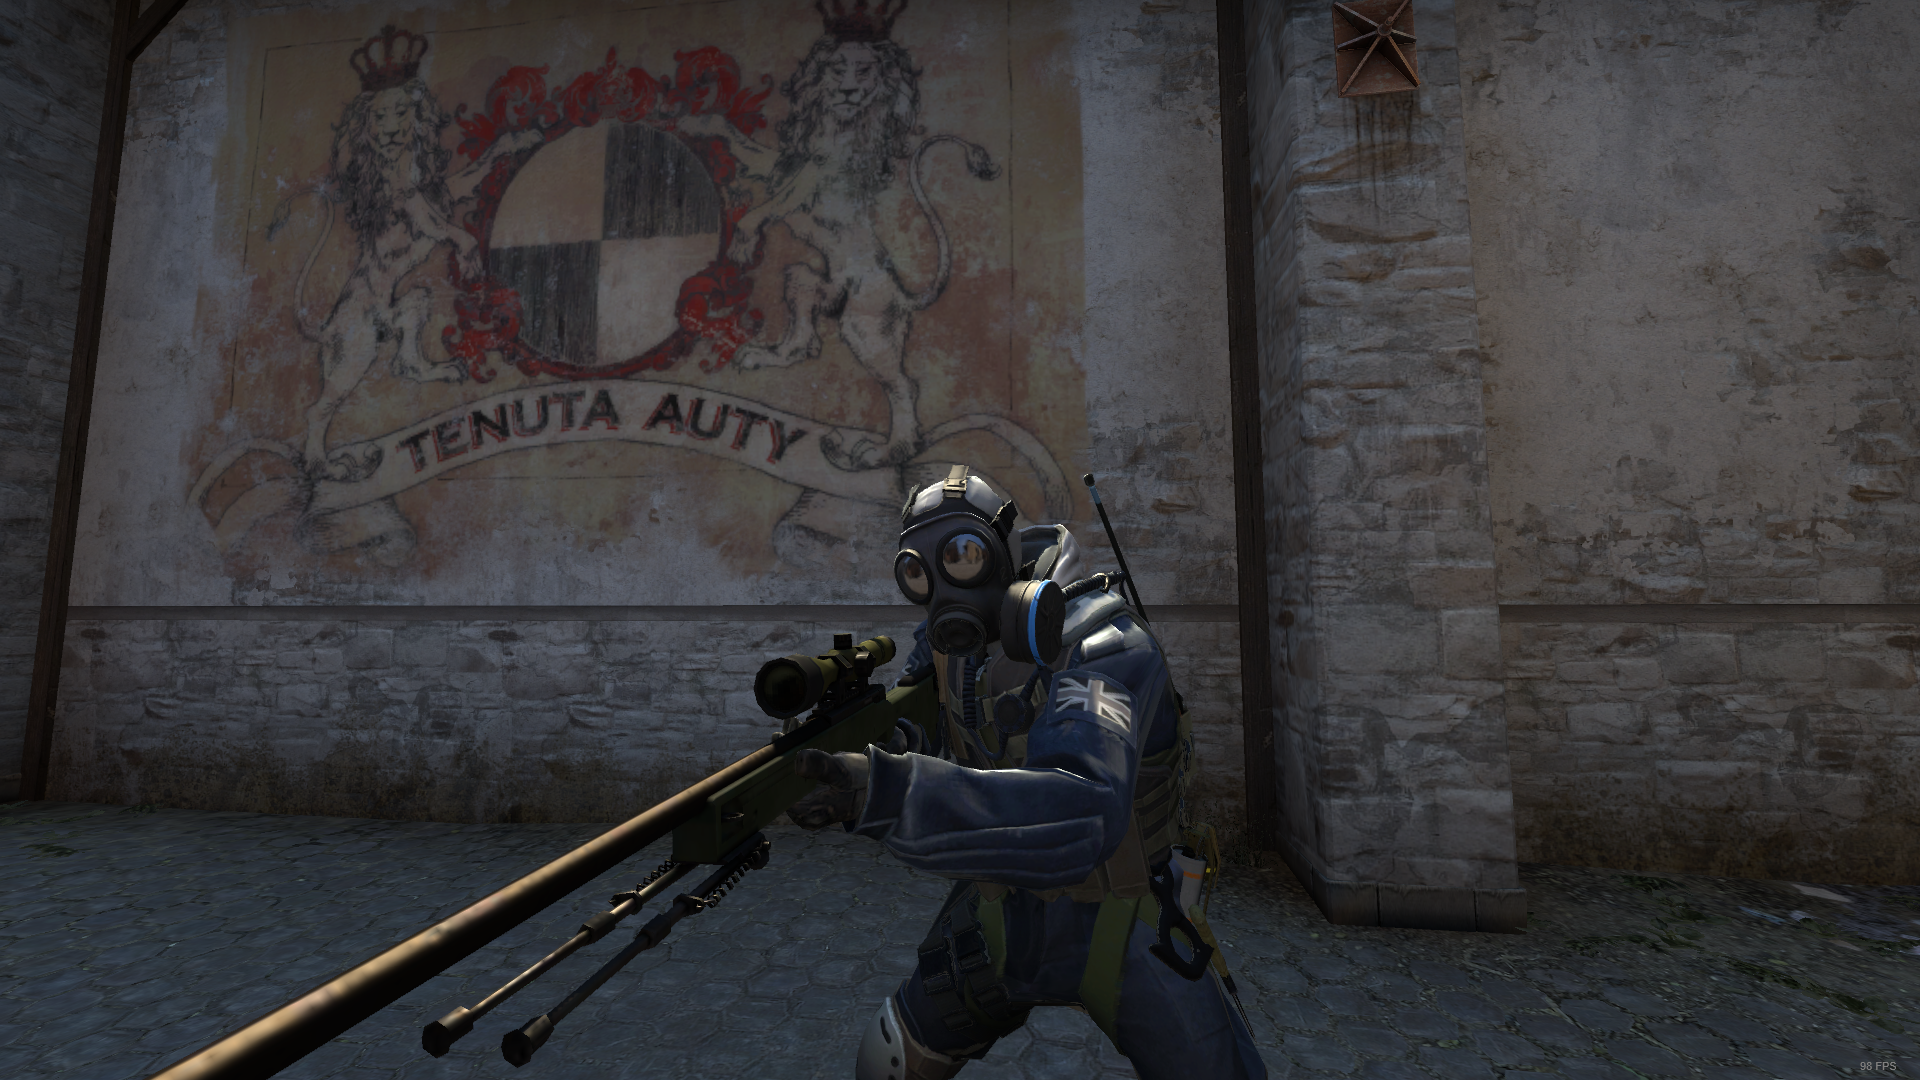ct: (793, 472, 1265, 1080)
